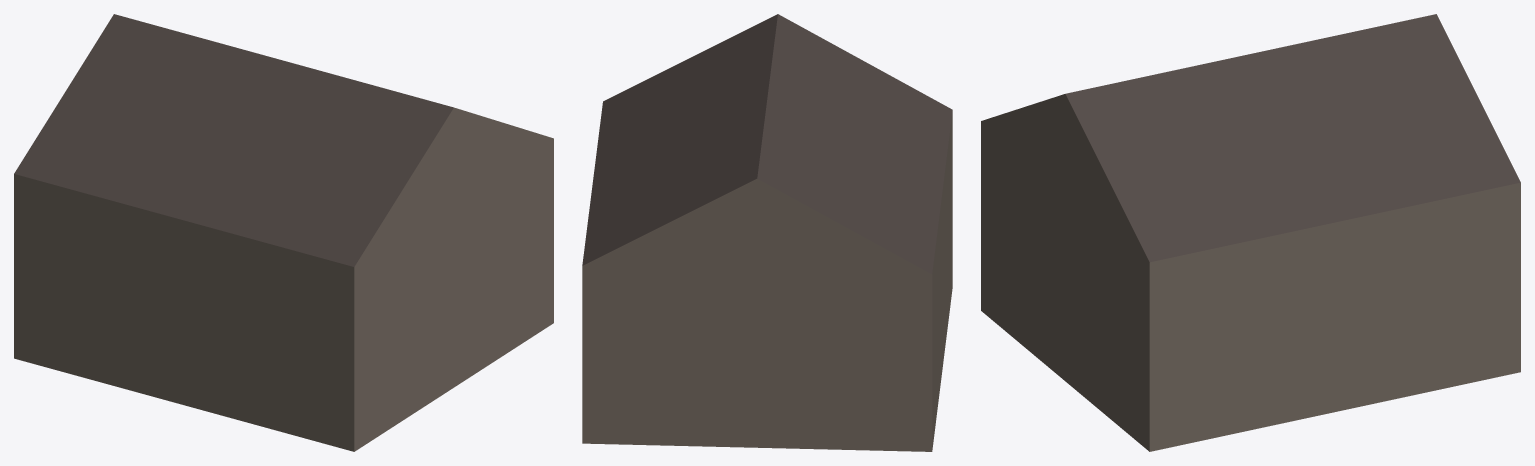
3 renders of one model, left to right at view 1: azimuth 30°, elevation 25°; view 2: azimuth 150°, elevation 25°; view 3: azimuth 270°, elevation 25°, orthographic. The views are drawn at different scales.
Parts seen in each view (by area): view 1: HP-w859088480; view 2: HP-w859088480; view 3: HP-w859088480.
Part boxes in pixels (left/top/right/bottom): HP-w859088480: left=14, top=14, right=553, bottom=451; HP-w859088480: left=582, top=14, right=952, bottom=451; HP-w859088480: left=981, top=14, right=1520, bottom=451.
Size of the model in its own units: 15 by 9.1 by 15.48.
